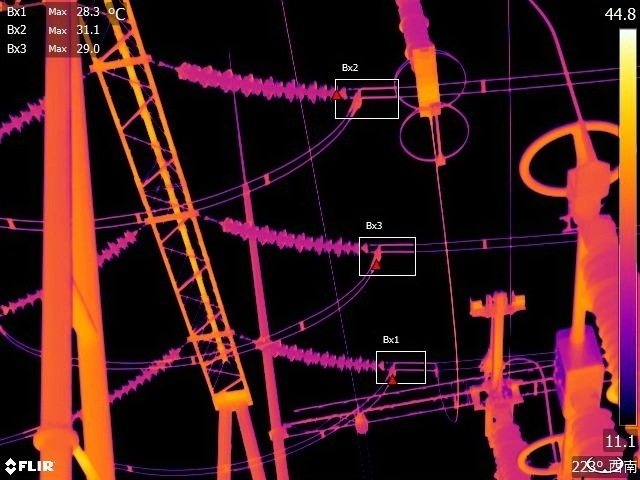clamp: (350, 80, 370, 110), (365, 241, 388, 264), (387, 357, 405, 381)
insulator: (1, 224, 146, 323), (167, 55, 335, 110), (212, 214, 367, 262), (243, 325, 385, 375), (110, 341, 185, 405), (384, 1, 444, 59), (1, 90, 54, 144)
switch: (522, 118, 620, 480), (467, 271, 528, 431)
